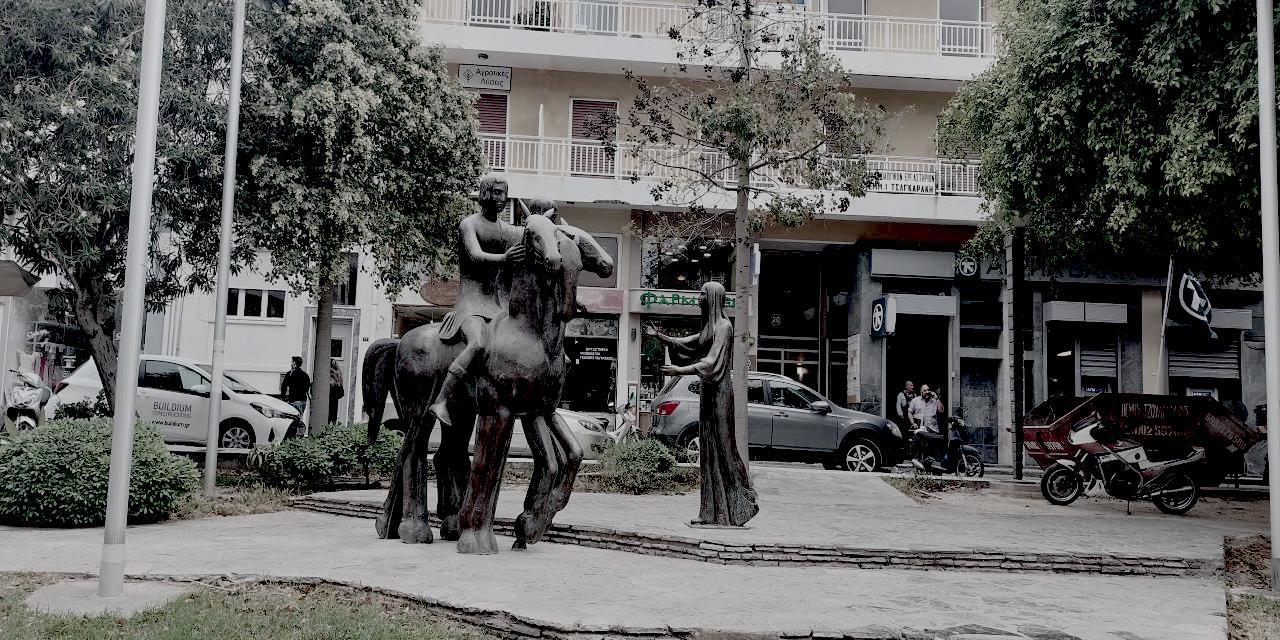Aretousa: (362, 175, 760, 557)
